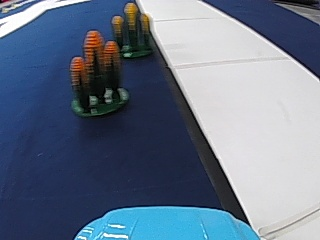corn: (68, 29, 128, 119), (110, 3, 153, 59)
